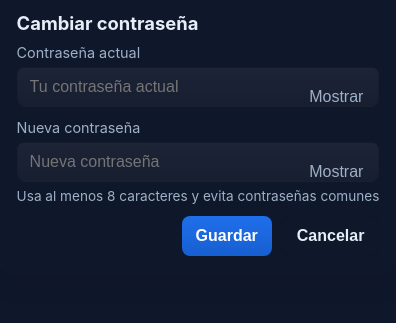
Scenario: ChangePassword › shows error when submitting with empty fields
The width and height of the screenshot is (396, 323).
Click the button "Guardar" at (227, 236), box [182,216,272,256]
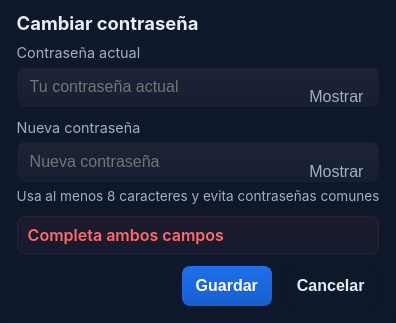
Expected: the text "Completa ambos campos" is shown, [17,216,379,254]
